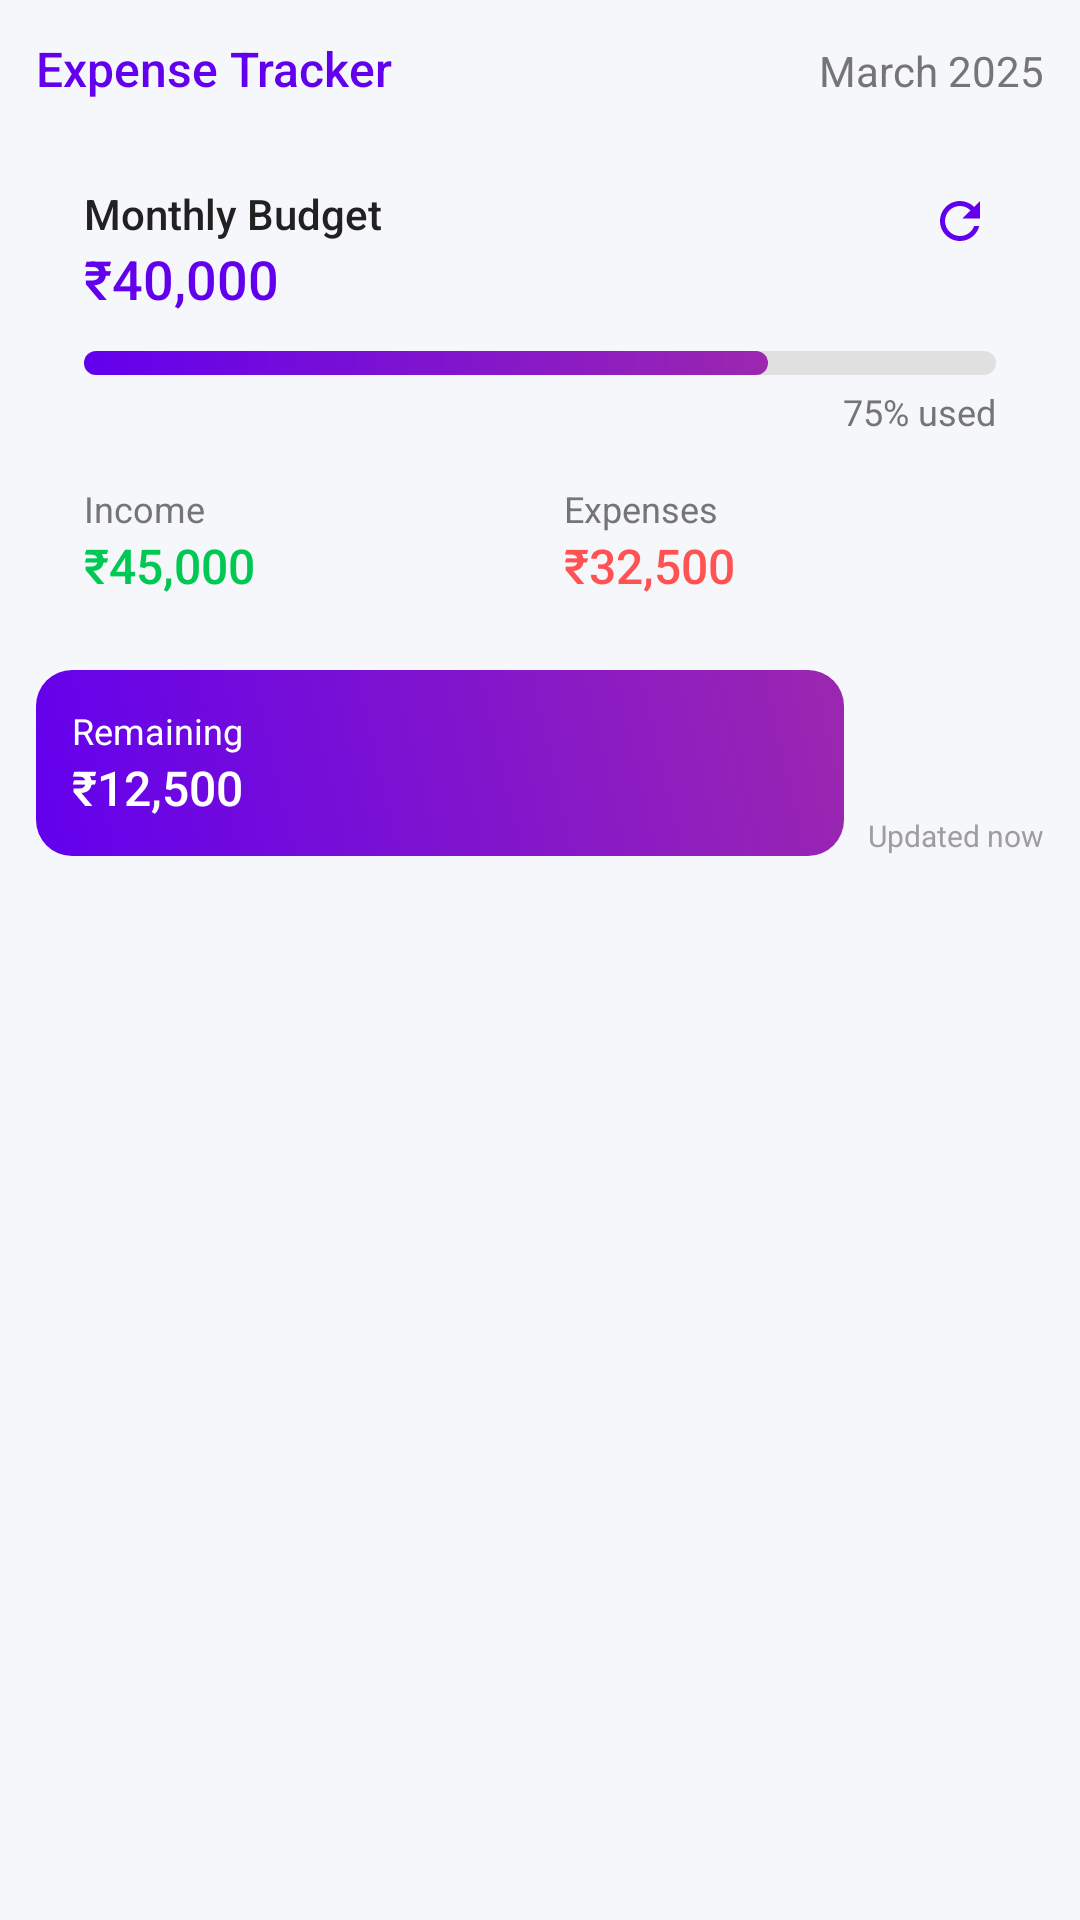

Icon bounding boxes for this 1080w x 1920h phone screenshot, format (x1=x1, y1=y1, x2=x2, y2=y2):
refresh modern: (x1=940, y1=201, x2=980, y2=241)
